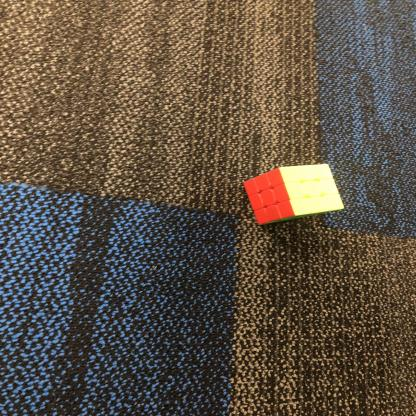SolvedCube: (240, 155, 346, 230)
